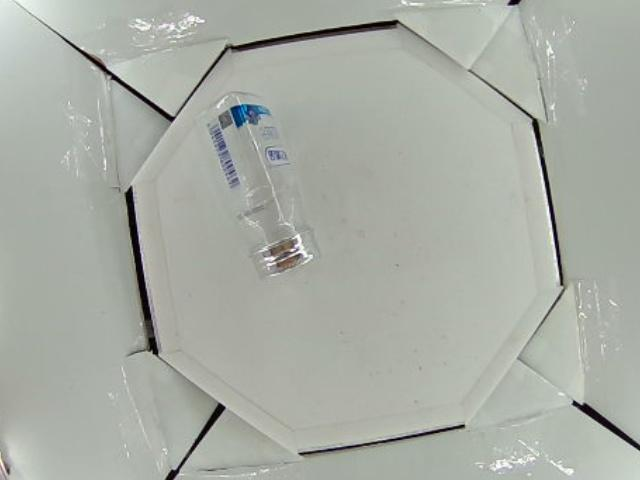Bottle: (194, 93, 321, 277)
